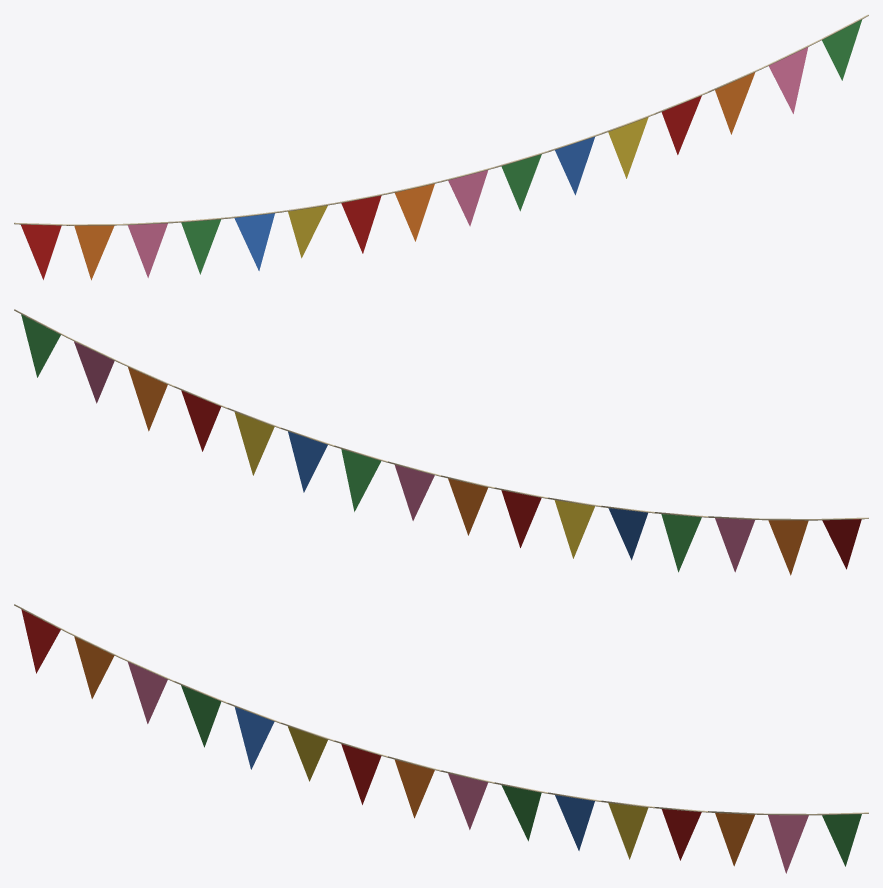
Rendered from Bandeirinhas.fbx.
3 views of the same model, one above another, from view 1: azimuth 30°, elevation 25°; view 2: azimuth 150°, elevation 25°; view 3: azimuth 330°, elevation 25° (orthographic).
Visible parts, largest first — view 1: Bandeirinhas; view 2: Bandeirinhas; view 3: Bandeirinhas.
Boxes of the visible parts, x1,y1,x2,y2 form: Bandeirinhas: [14, 14, 868, 280]; Bandeirinhas: [14, 309, 868, 575]; Bandeirinhas: [14, 604, 868, 873].
Size of the model in its own units: 3.6 by 0.4692 by 0.0603.
